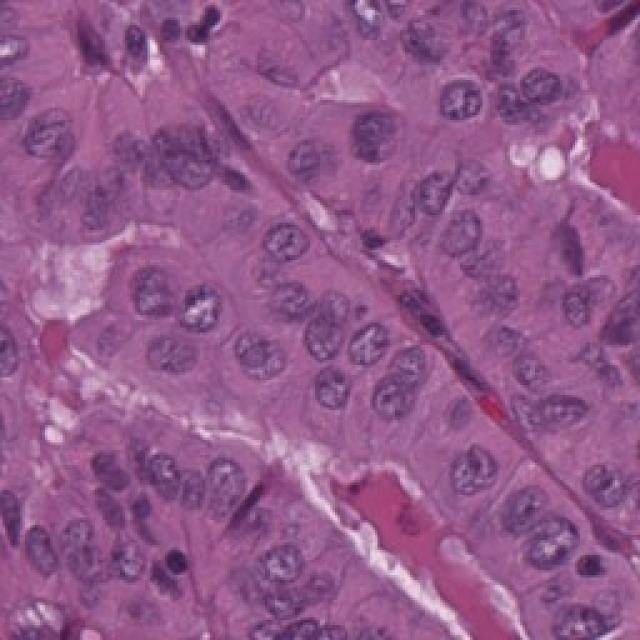abnormal: (138, 100, 230, 205), (205, 320, 299, 403), (122, 316, 212, 399), (8, 84, 92, 168), (528, 576, 637, 640), (167, 264, 242, 356), (115, 243, 193, 329), (434, 428, 510, 514), (292, 348, 360, 437), (502, 372, 582, 447), (55, 500, 109, 608), (338, 97, 410, 178), (413, 62, 491, 136), (483, 463, 550, 549), (439, 184, 494, 278), (461, 258, 522, 342), (250, 511, 314, 591), (130, 423, 190, 508), (2, 499, 56, 593), (252, 206, 335, 266), (570, 462, 640, 533), (511, 516, 586, 580), (273, 126, 340, 197), (381, 334, 447, 406), (294, 288, 353, 367), (191, 444, 253, 517), (335, 302, 393, 378), (359, 373, 408, 443)
